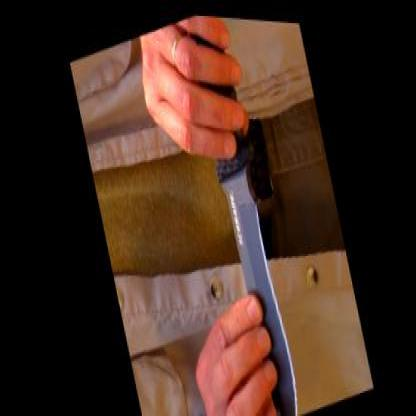knife: (177, 11, 310, 414)
